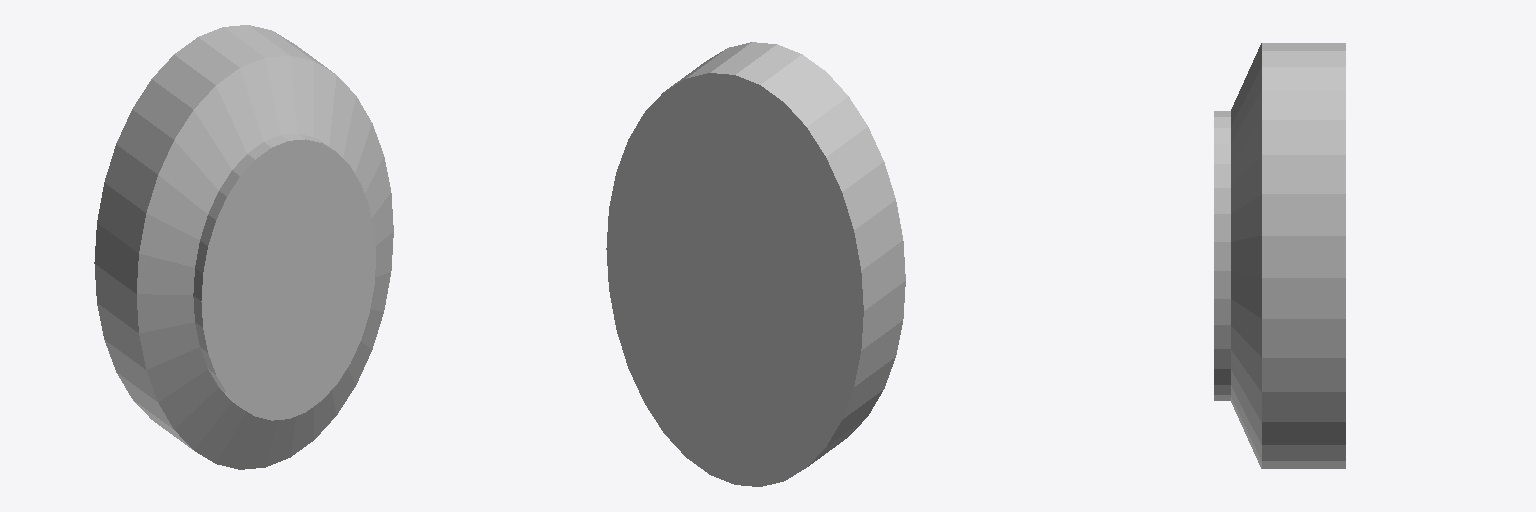
File: elli.obj
3 views of the same model, side by side, from view 1: azimuth 30°, elevation 25°; view 2: azimuth 150°, elevation 25°; view 3: azimuth 270°, elevation 25° (orthographic).
Visible parts, largest first — view 1: Cylinder.004, Cylinder.001, Cylinder.005, Cylinder.003; view 2: Cylinder.002, Cylinder.005; view 3: Cylinder.005, Cylinder.004, Cylinder.003.
Boxes of the visible parts, x1,y1,x2,y2 form: Cylinder.004: [137, 56, 393, 469]; Cylinder.001: [201, 139, 375, 420]; Cylinder.005: [94, 25, 334, 449]; Cylinder.003: [193, 133, 334, 405]; Cylinder.002: [606, 73, 863, 486]; Cylinder.005: [667, 42, 905, 466]; Cylinder.005: [1262, 43, 1345, 468]; Cylinder.004: [1231, 43, 1261, 468]; Cylinder.003: [1214, 111, 1230, 400].
Bounding box in the file's own units: 13.98 × 21.27 × 6.18.